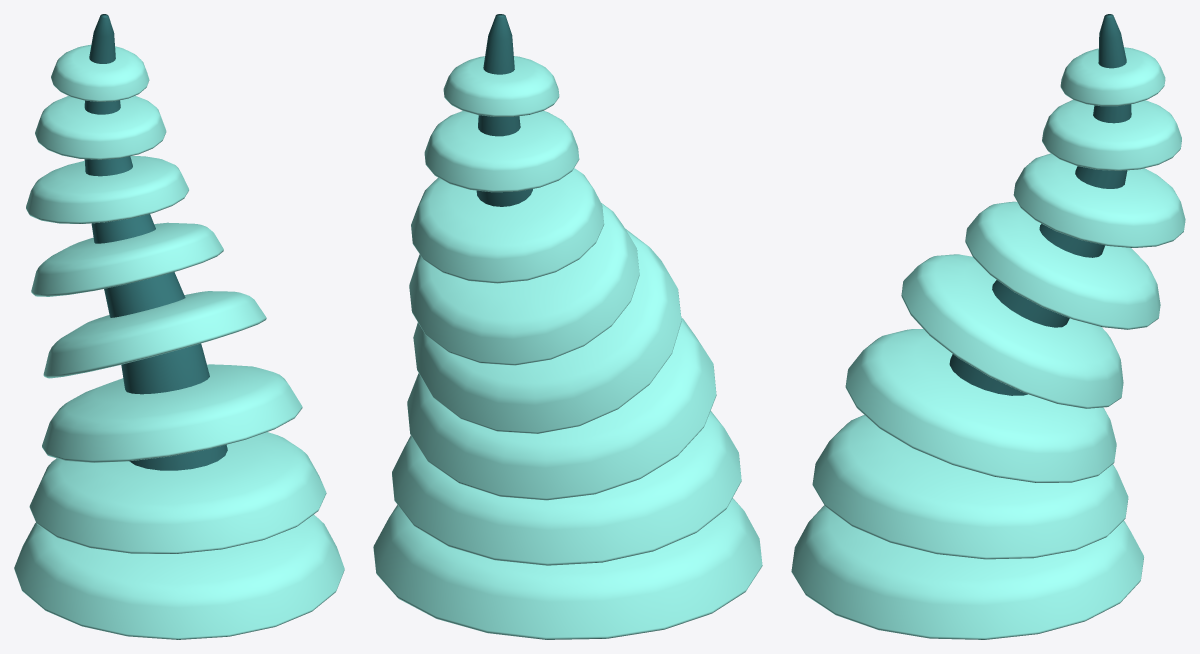
Rendered from Tree01.fbx.
The picture shows the model from 3 angles, left to right: view 1: azimuth 30°, elevation 25°; view 2: azimuth 150°, elevation 25°; view 3: azimuth 270°, elevation 25°; orthographic projection. The views are drawn at different scales.
Visible parts, largest first — view 1: pCylinder28; view 2: pCylinder28; view 3: pCylinder28.
Boxes of the visible parts, x1=… form: pCylinder28: x1=14, y1=14, x2=344, y2=639; pCylinder28: x1=373, y1=14, x2=762, y2=639; pCylinder28: x1=791, y1=14, x2=1185, y2=639.
Size of the model in its own units: 141 by 249 by 157.
